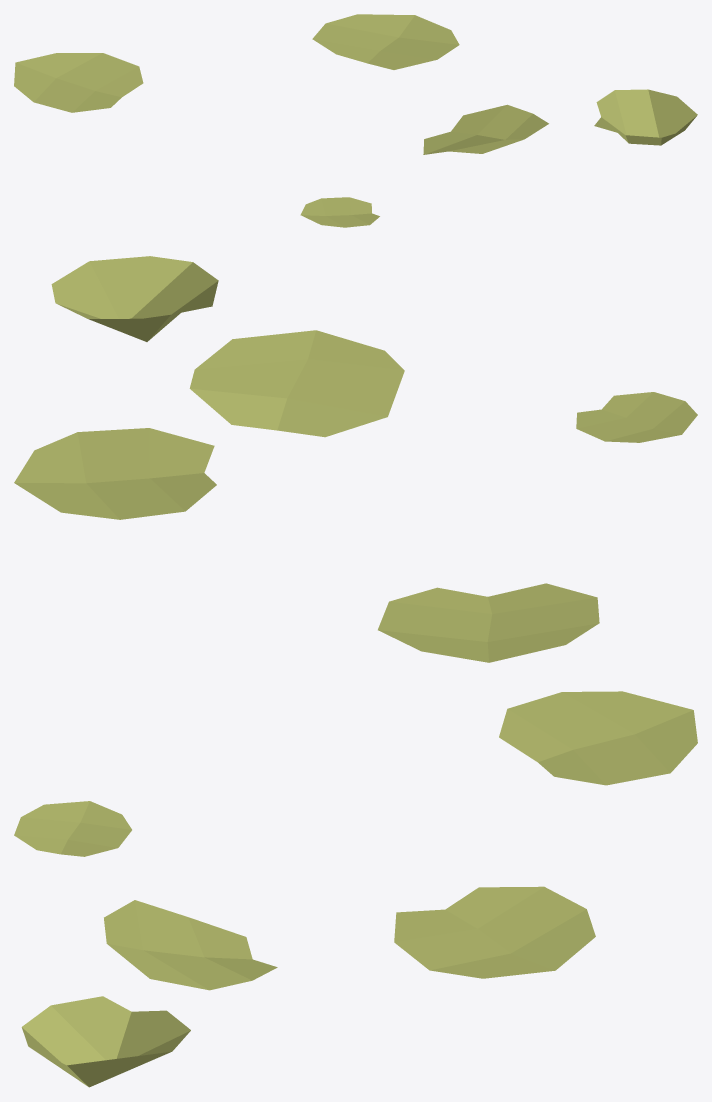
Rendered from Lilly_leaves_4.fbx.
The picture shows the model from 3 angles, top to bottom: view 1: azimuth 30°, elevation 25°; view 2: azimuth 150°, elevation 25°; view 3: azimuth 270°, elevation 25°; orthographic projection. The views are drawn at different scales.
Parts seen in each view (by area): view 1: Lilly_leaves_4; view 2: Lilly_leaves_4; view 3: Lilly_leaves_4.
Part boxes in pixels (x1,y1,x2,y2): Lilly_leaves_4: (14,14,697,227); Lilly_leaves_4: (14,256,697,662); Lilly_leaves_4: (14,691,697,1087).
Bounding box in the file's own units: 0.0438 × 0.00349 × 0.0353.
